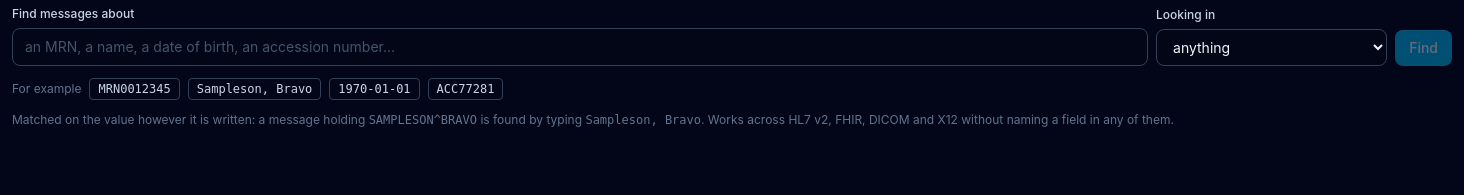
Test: an empty patient search › says the index is off rather than that the patient was never seen
In the field with placeholder "an MRN, a name, a date of birth, an accession number…": (580, 47) left=12, top=28, right=1148, bottom=66, type "MRN0012345"
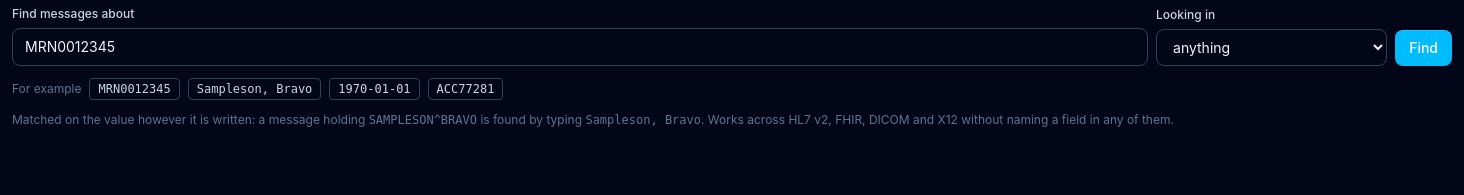
Click the button "Find": (1424, 48) left=1395, top=30, right=1452, bottom=66
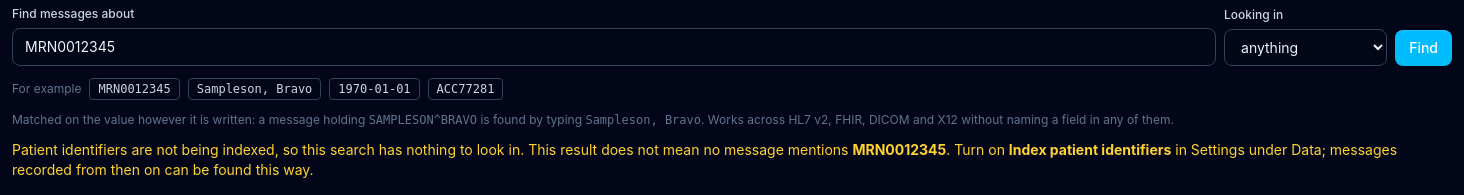
Expected: the text "not being indexed" is shown, left=12, top=141, right=852, bottom=158
Expected: the text "does not mean" is shown, left=12, top=141, right=852, bottom=158
